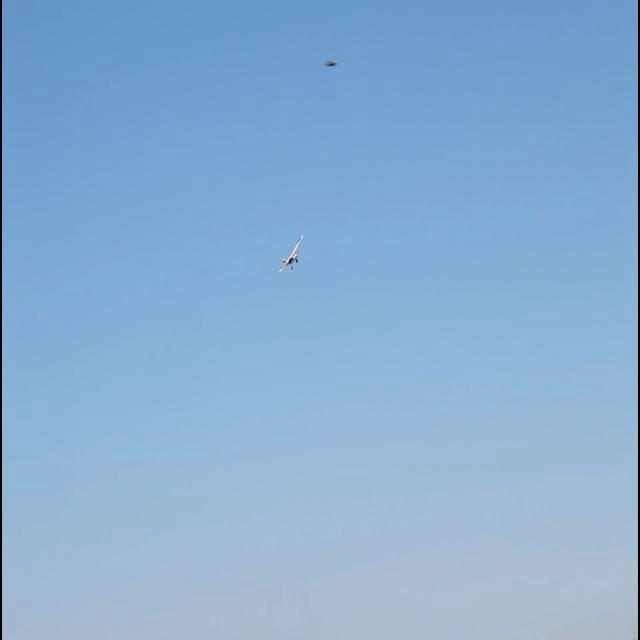iha: (277, 227, 307, 273), (317, 62, 333, 65)
